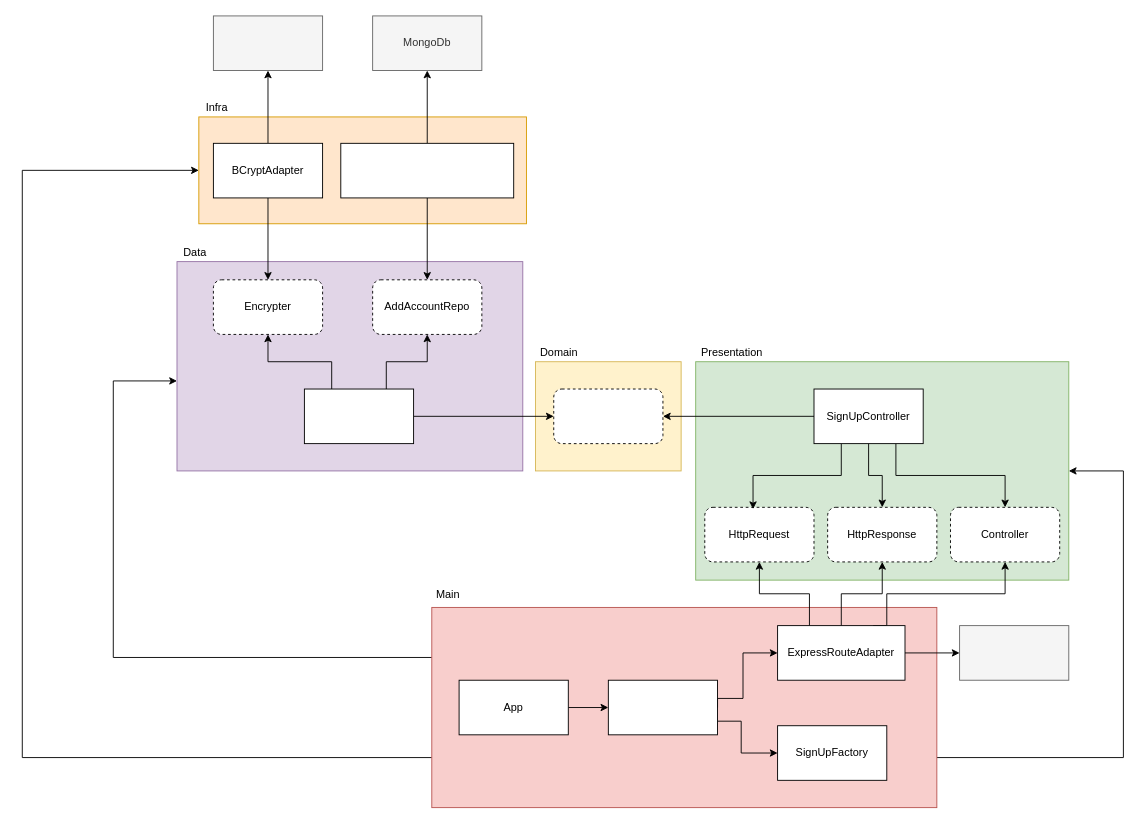
Image size: 1147x824. Some labels were removed from this diagram. The box of each missing label's shape, as (x1, y1, x2, y2) in pixels:
AccountMongoRepository: (340, 142, 514, 198)
AddAccount: (553, 388, 663, 444)
Bcrypt: (212, 15, 323, 71)
DbAddAccount: (303, 388, 414, 444)
Express: (959, 625, 1069, 680)
SignUpRouter: (607, 679, 718, 735)
